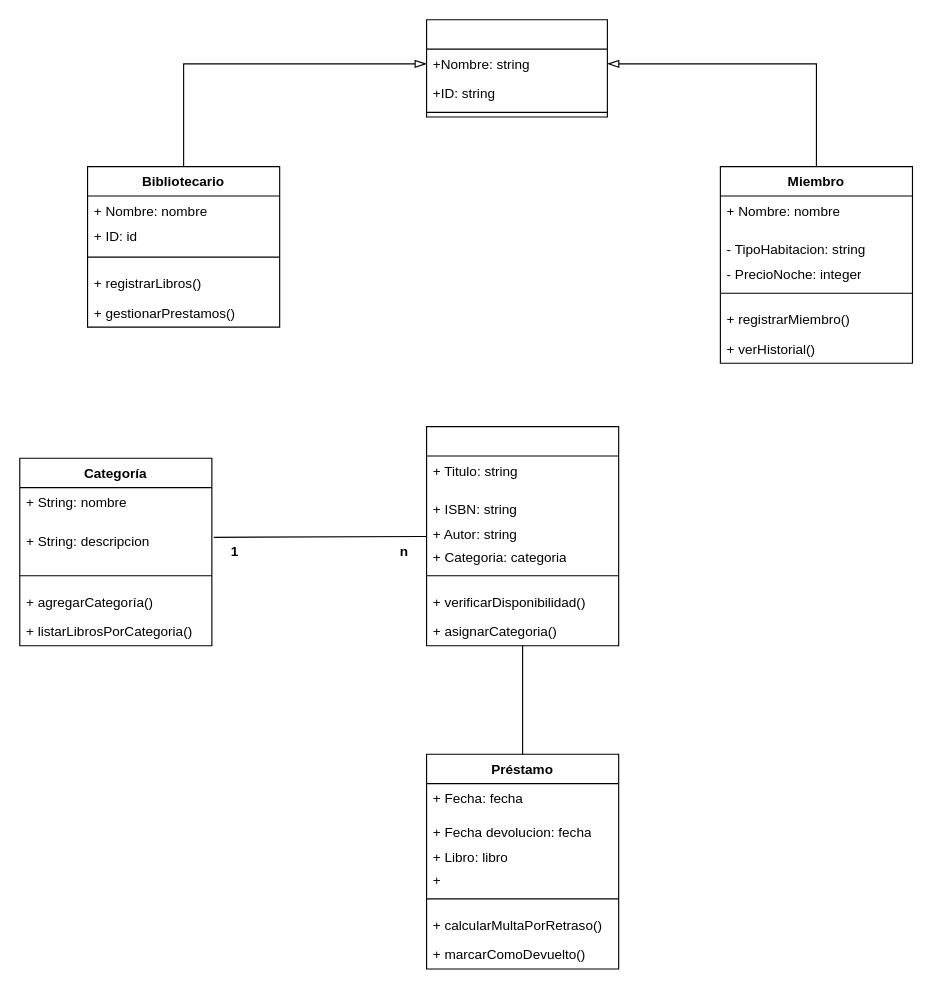
This 932x992 diagram has some shape labels left out. Here are the shapes that lost their labels. From the top down, the box of each, then its label:
(425, 19, 607, 117): Persona
(425, 425, 619, 646): Libro
